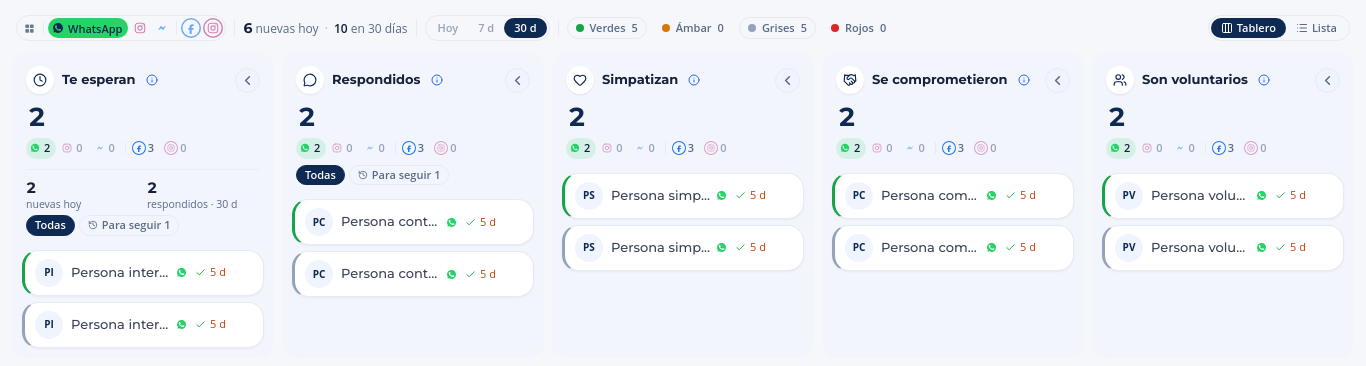
Test: VistaEmbudo — el canal (campaña) › 🔴 el ícono elegido dice el nombre del canal, y los demás sólo muestran el logo
The width and height of the screenshot is (1366, 366).
Expected: the button "WhatsApp" is shown, [48, 18, 128, 38]
Expected: the button named "Messenger" is empty, [152, 18, 172, 38]
Click the button named "Comentarios de Facebook" at (191, 28), box [181, 18, 201, 38]
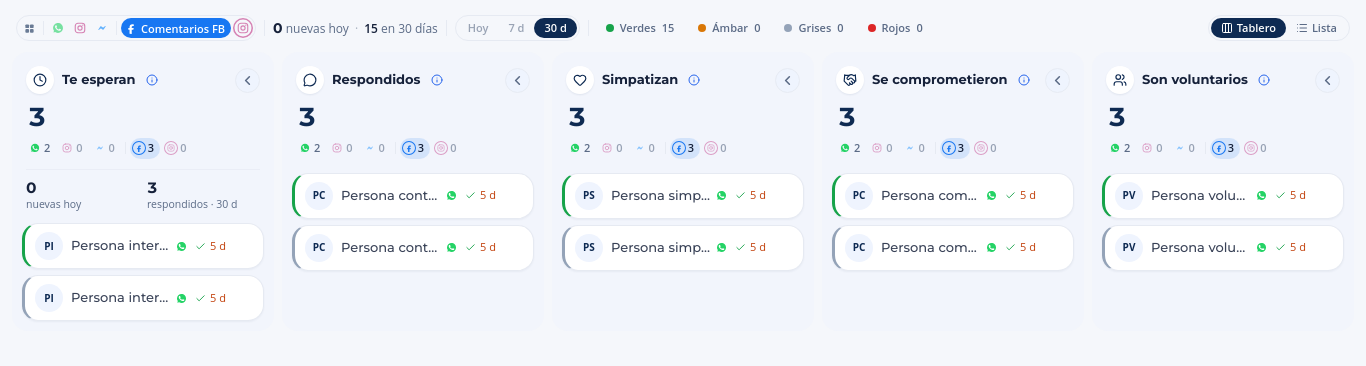
Result: the button "Comentarios FB" is shown at [121, 18, 231, 38]
Result: the button named "WhatsApp" is empty at [48, 18, 68, 38]
